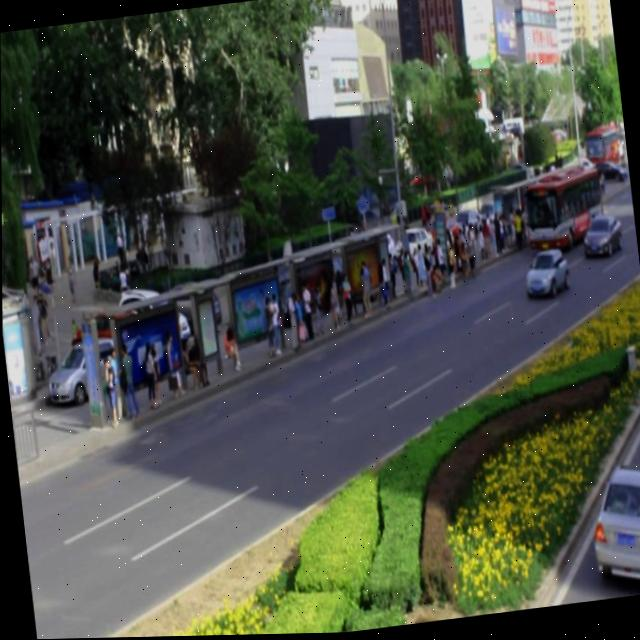car: (520, 248, 569, 301), (578, 215, 621, 263)
van: (520, 163, 606, 256)
